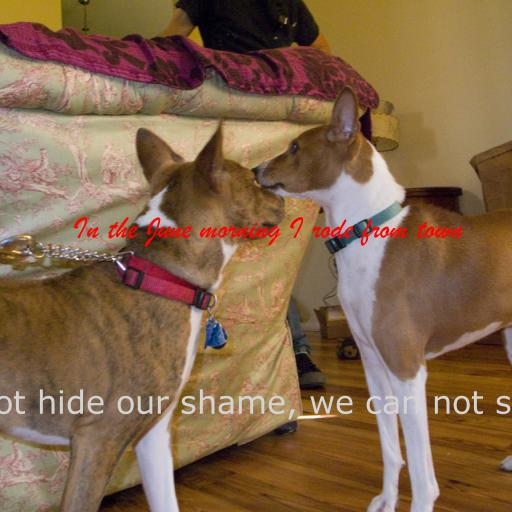Brush Script MT: (73, 216, 463, 247)
Verdana: (0, 389, 512, 420)
